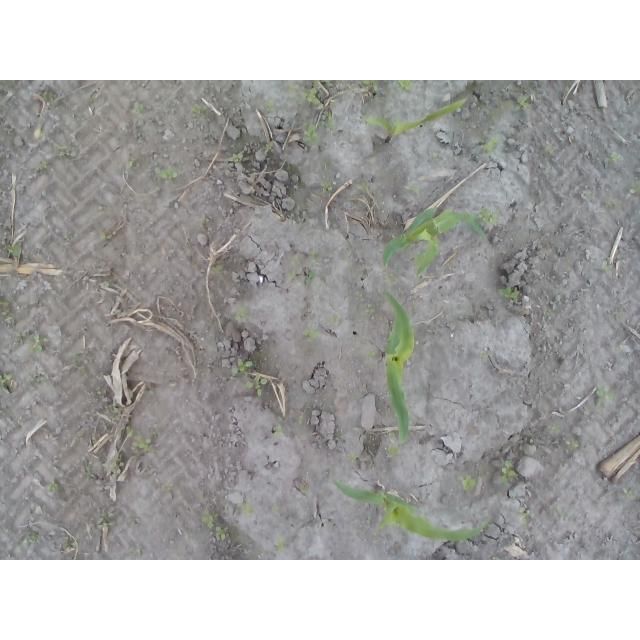Maize: (334, 477, 491, 539), (383, 209, 490, 280), (369, 96, 470, 149), (381, 290, 416, 442)
Weeds: (287, 81, 322, 108), (126, 426, 162, 450), (202, 512, 229, 540), (589, 382, 615, 409), (498, 458, 518, 491), (246, 374, 270, 397), (544, 295, 562, 320), (303, 120, 320, 145), (0, 295, 16, 321), (479, 206, 497, 226), (20, 528, 41, 545), (498, 286, 520, 302), (231, 361, 254, 376), (359, 81, 381, 96), (320, 111, 336, 130), (457, 473, 476, 489), (159, 167, 178, 182), (57, 143, 77, 157), (97, 512, 114, 528), (482, 135, 497, 153), (31, 336, 45, 353), (273, 536, 287, 553), (515, 95, 529, 112), (1, 372, 12, 393), (394, 81, 414, 92), (7, 243, 22, 257), (519, 506, 530, 525), (234, 309, 250, 322), (240, 502, 256, 515), (546, 420, 561, 433), (308, 250, 320, 266), (322, 180, 338, 192), (131, 101, 145, 114), (303, 328, 321, 338), (563, 436, 578, 448), (192, 103, 208, 114), (606, 152, 625, 161), (297, 481, 309, 495), (327, 315, 342, 326), (272, 424, 284, 437), (48, 480, 60, 493), (265, 96, 274, 113), (354, 290, 366, 302), (42, 90, 54, 102), (406, 184, 424, 192), (604, 199, 617, 210), (347, 452, 358, 465), (387, 446, 402, 455), (307, 270, 318, 282), (230, 152, 243, 162), (210, 264, 226, 272), (387, 273, 398, 284), (359, 180, 369, 192), (111, 464, 121, 476), (15, 332, 25, 343), (291, 255, 302, 265), (629, 183, 640, 193), (546, 146, 558, 155), (110, 404, 118, 417), (39, 160, 49, 170), (623, 487, 633, 497), (365, 304, 376, 313), (600, 261, 609, 272), (101, 280, 113, 288), (367, 512, 373, 528), (128, 159, 137, 169), (584, 190, 592, 201), (264, 142, 273, 151), (288, 272, 297, 281), (368, 352, 377, 361), (432, 152, 441, 161), (296, 414, 304, 424), (271, 504, 279, 513), (387, 431, 398, 437), (64, 234, 73, 241), (480, 350, 487, 358), (63, 542, 70, 549)
